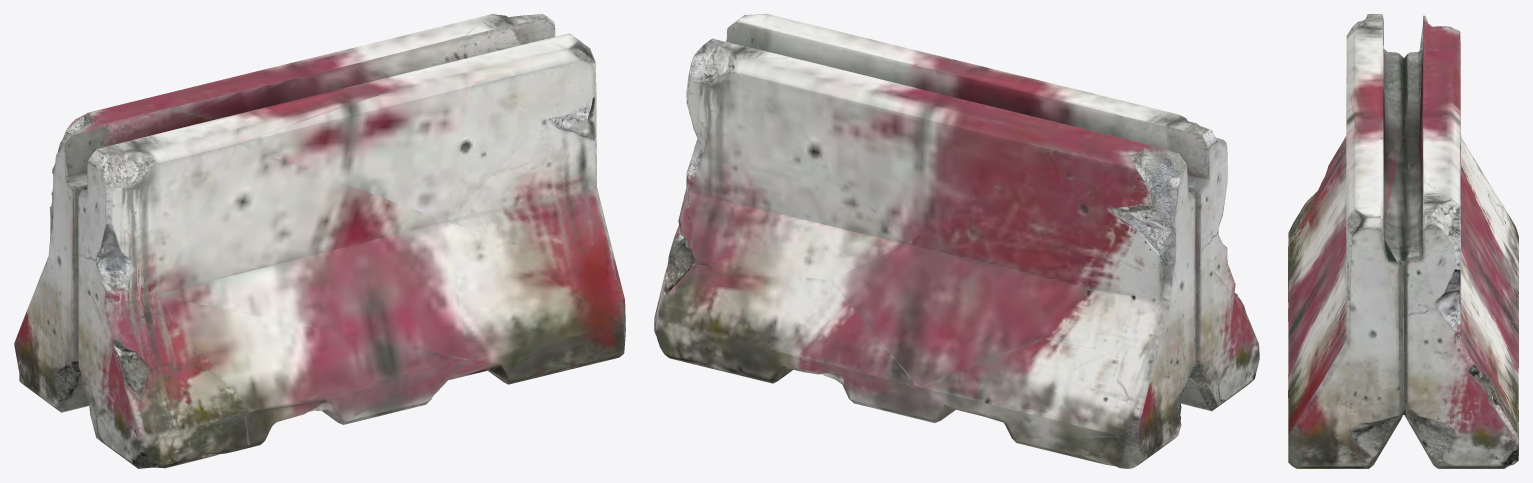
File: barrier_concrete.glb
The picture shows the model from 3 angles, left to right: view 1: azimuth 30°, elevation 25°; view 2: azimuth 150°, elevation 25°; view 3: azimuth 270°, elevation 25°; orthographic projection. The views are drawn at different scales.
Visible parts, largest first — view 1: Mesh_0; view 2: Mesh_0; view 3: Mesh_0.
Boxes of the visible parts, x1,y1,x2,y2 form: Mesh_0: (14, 14, 625, 468); Mesh_0: (654, 14, 1259, 468); Mesh_0: (1288, 14, 1518, 468).
Bounding box in the file's own units: 1.9 × 1.06 × 0.8816.
1 material, 1 textured.
